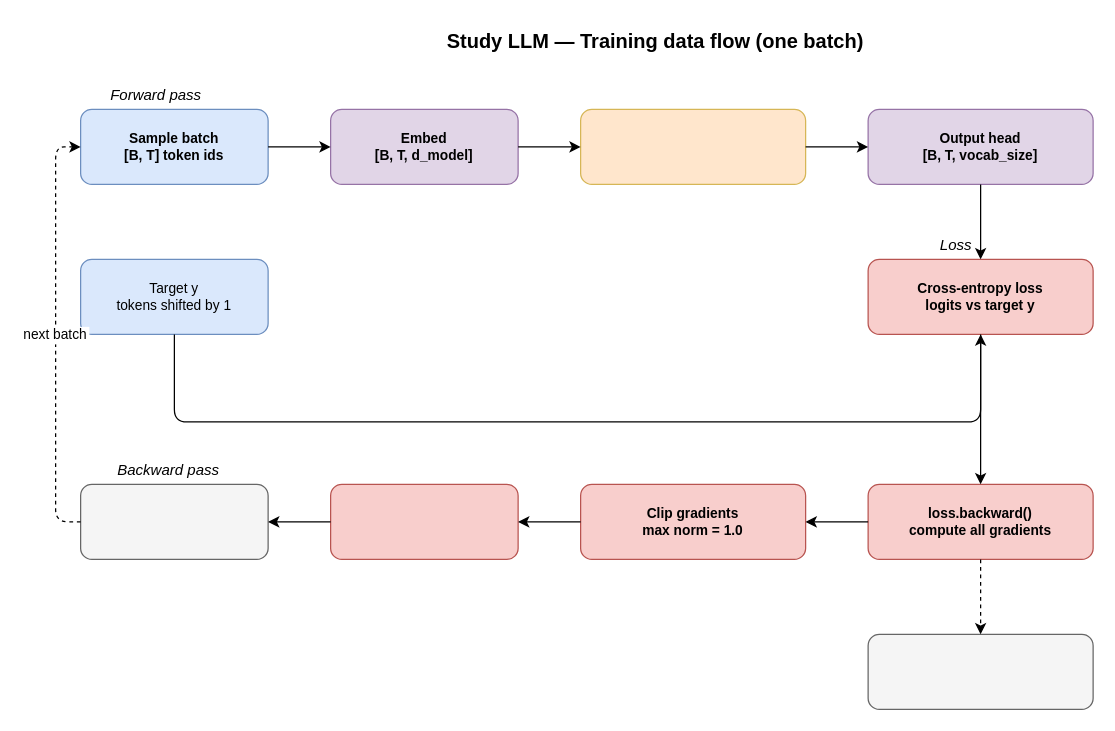
Some shapes in this 1115 by 731 pixel diagram are drawn without their labels. The shapes that lost their labels are listed below. From the top down, each one's box as (x1, y1, x2, y2) in pixels, then its label:
(579, 108, 806, 184): × N transformer blocks [B, T, d_model]
(79, 483, 268, 559): LR scheduler warmup → cosine
(329, 483, 518, 559): AdamW step update weights
(867, 633, 1093, 709): Val loss / perplexity every 200 steps
